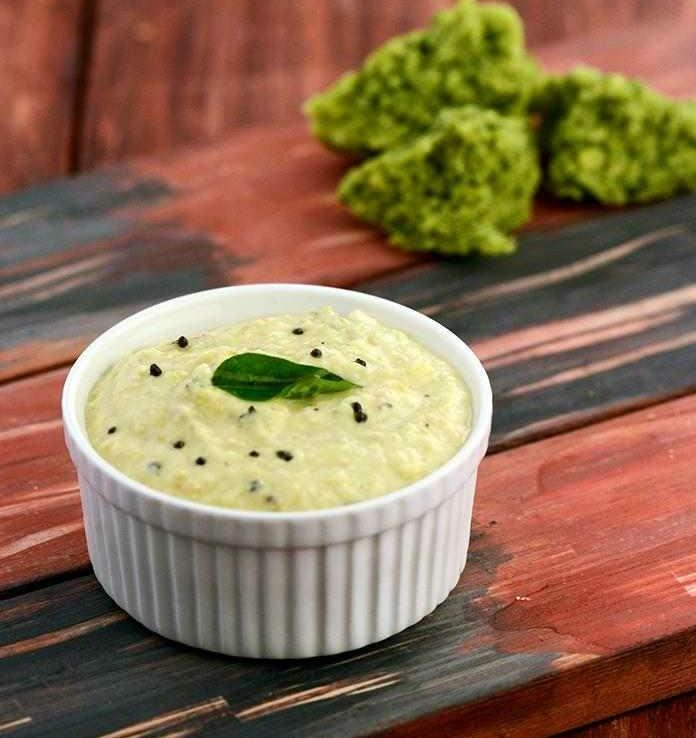CoconutChutney: (83, 305, 468, 511)
